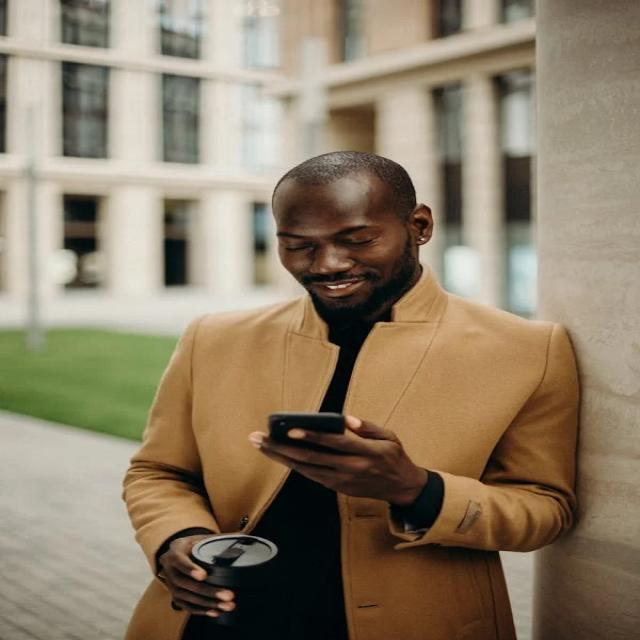Real human 2: (102, 131, 602, 640)
